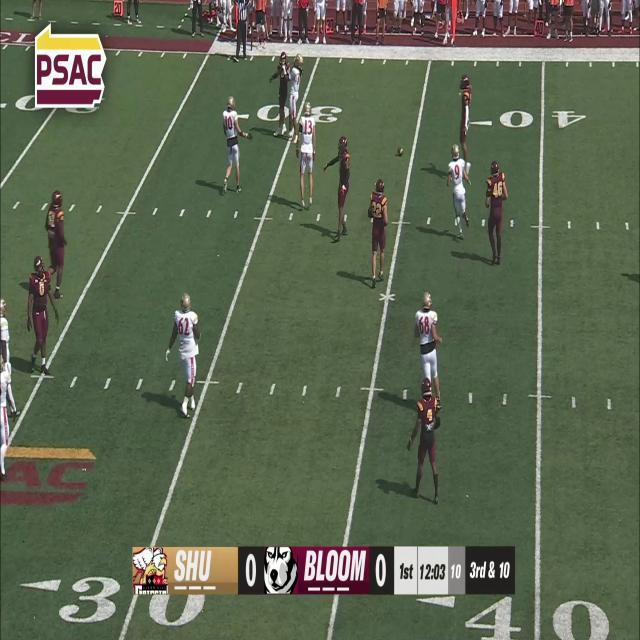football: (397, 146, 403, 158)
